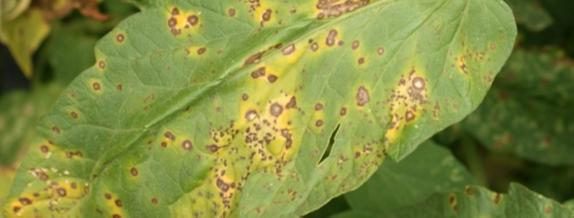Tomato Septoria leaf spot: (0, 0, 515, 218)
